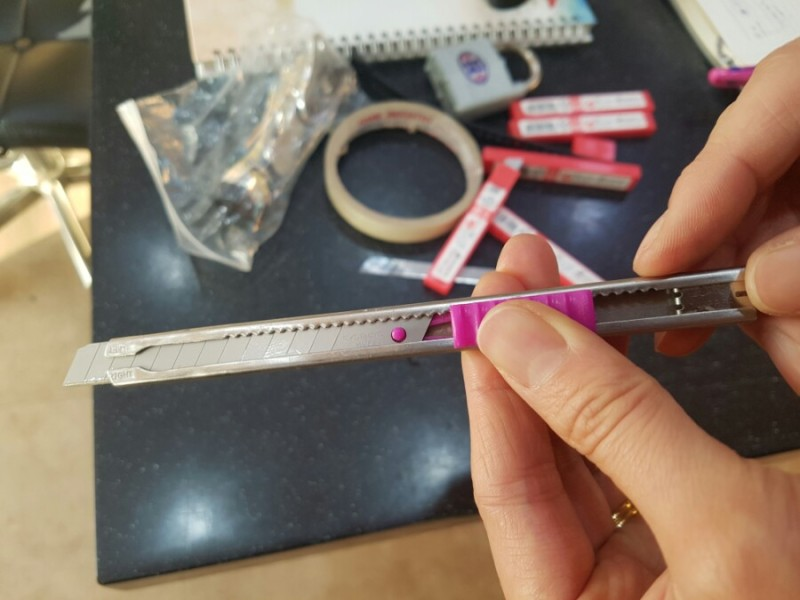knife: (59, 265, 769, 389)
